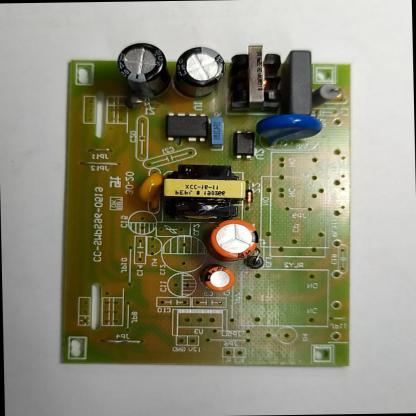Cap1: (211, 218, 259, 260)
Cap2: (203, 265, 236, 292)
Cap3: (172, 45, 226, 100)
Cap4: (116, 42, 170, 95), (312, 82, 341, 108)
MOSFET: (164, 111, 208, 144)
Mov: (252, 113, 323, 146)
Transformer: (163, 162, 246, 220), (226, 39, 284, 112)
